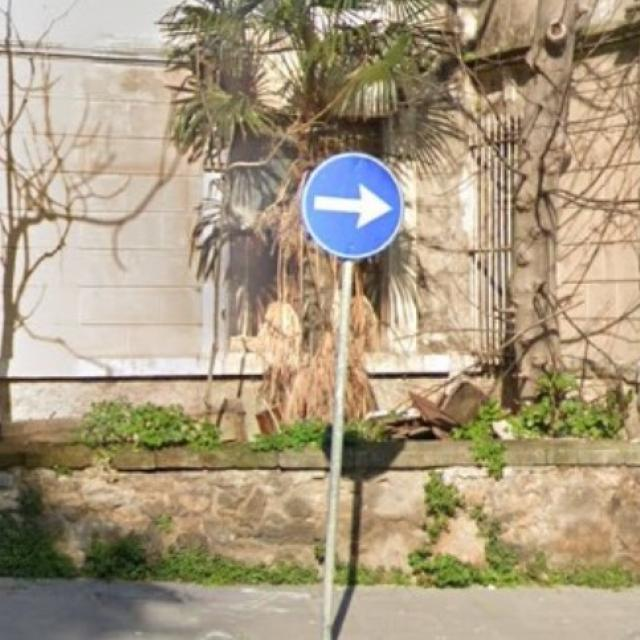Turn Right: (297, 157, 411, 259)
